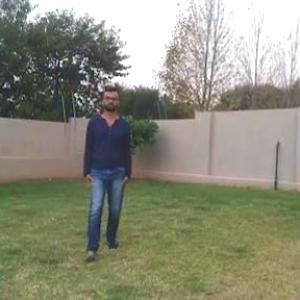follow: (83, 80, 127, 255)
